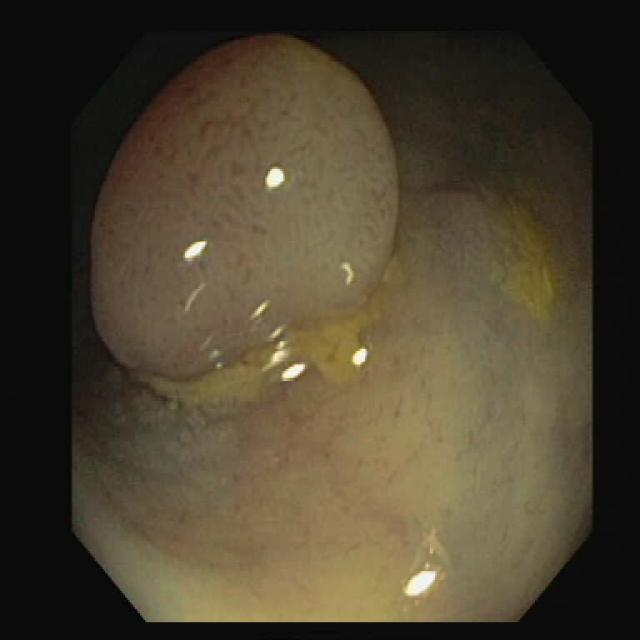tumor: (92, 36, 397, 380)
